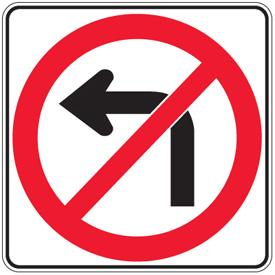no_left_turn: (12, 12, 262, 261)
